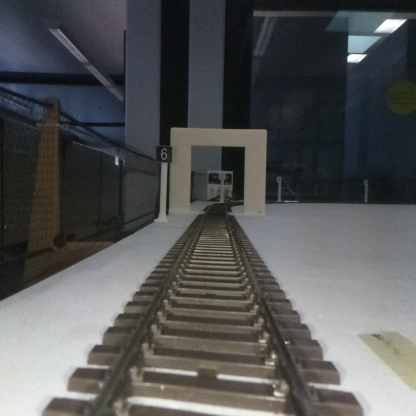black-info-6: (156, 146, 172, 221)
